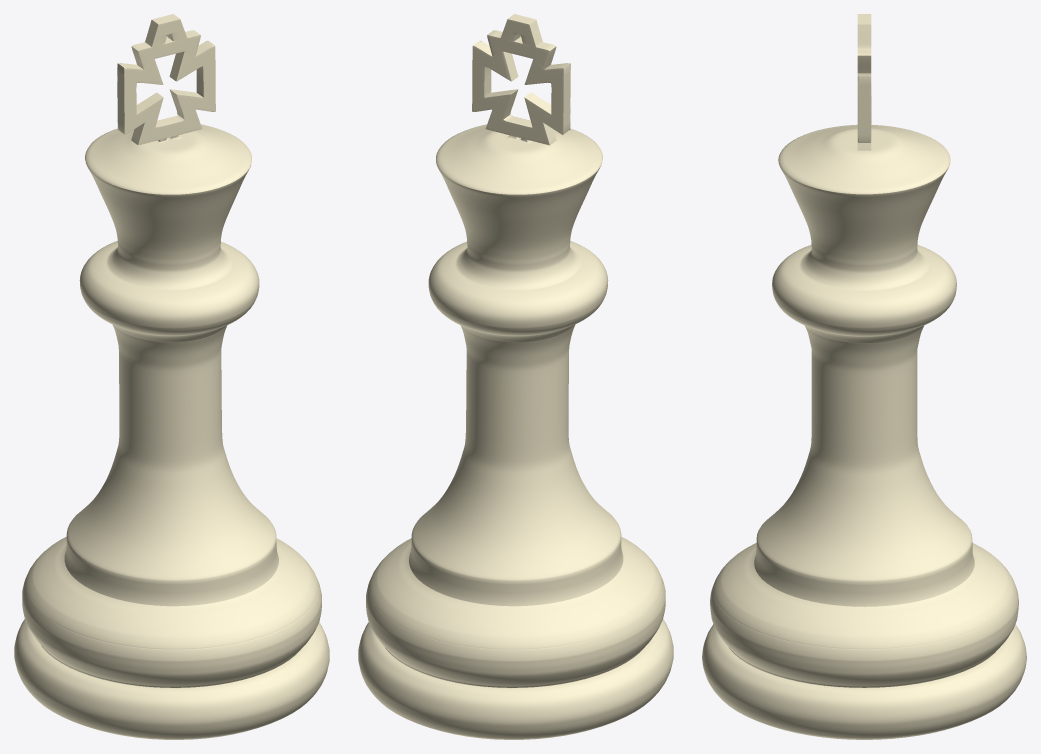
File: King.fbx
The picture shows the model from 3 angles, left to right: view 1: azimuth 30°, elevation 25°; view 2: azimuth 150°, elevation 25°; view 3: azimuth 270°, elevation 25°; orthographic projection.
Parts seen in each view (by area): view 1: King; view 2: King; view 3: King.
Part boxes in pixels (bbox=[...]): King: bbox=[14, 14, 329, 739]; King: bbox=[358, 14, 673, 739]; King: bbox=[702, 14, 1026, 739].
Bounding box in the file's own units: 172 × 403 × 179.
